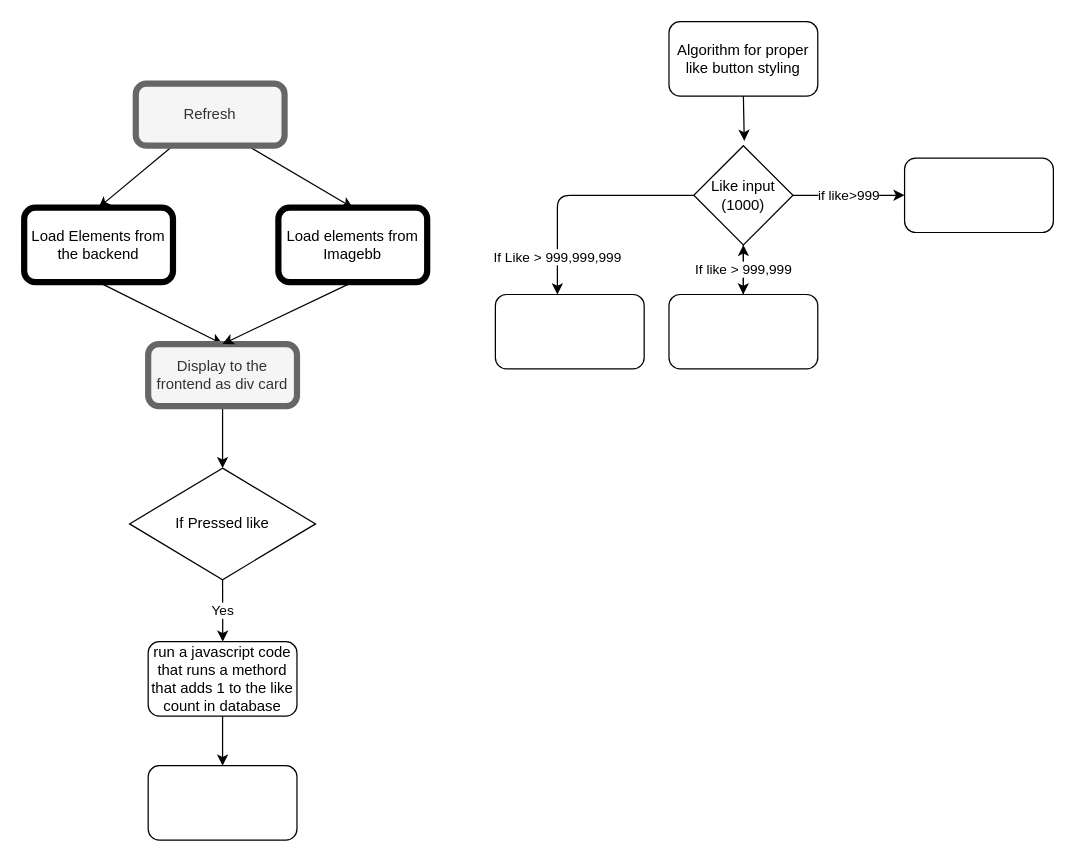
Image size: 1075x862. Some labels were removed from this diagram. The centre of each missing label's shape, as x and y in pixels:
Display the added like count to backend immedietly: pixel 222 802
Like/1,000,000 + "M": pixel 743 331
Like/100,000,000,000 + "B": pixel 569 331
like/1000 + "K": pixel 978 194
